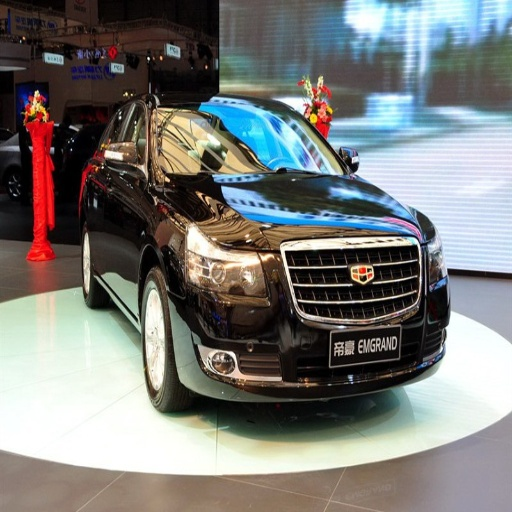front_bumper: (170, 243, 448, 399)
front_glass: (233, 120, 343, 176)
front_right_door: (97, 169, 135, 298)
front_right_light: (187, 193, 265, 296)
hood: (222, 173, 427, 300)
